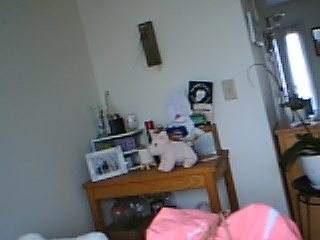piggy: (148, 130, 200, 173)
